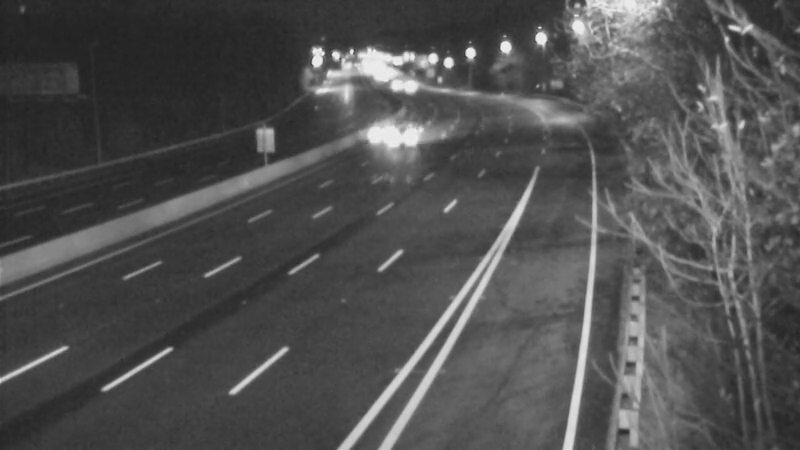vehicle: (383, 58, 433, 108), (384, 110, 434, 160), (351, 111, 401, 161)
